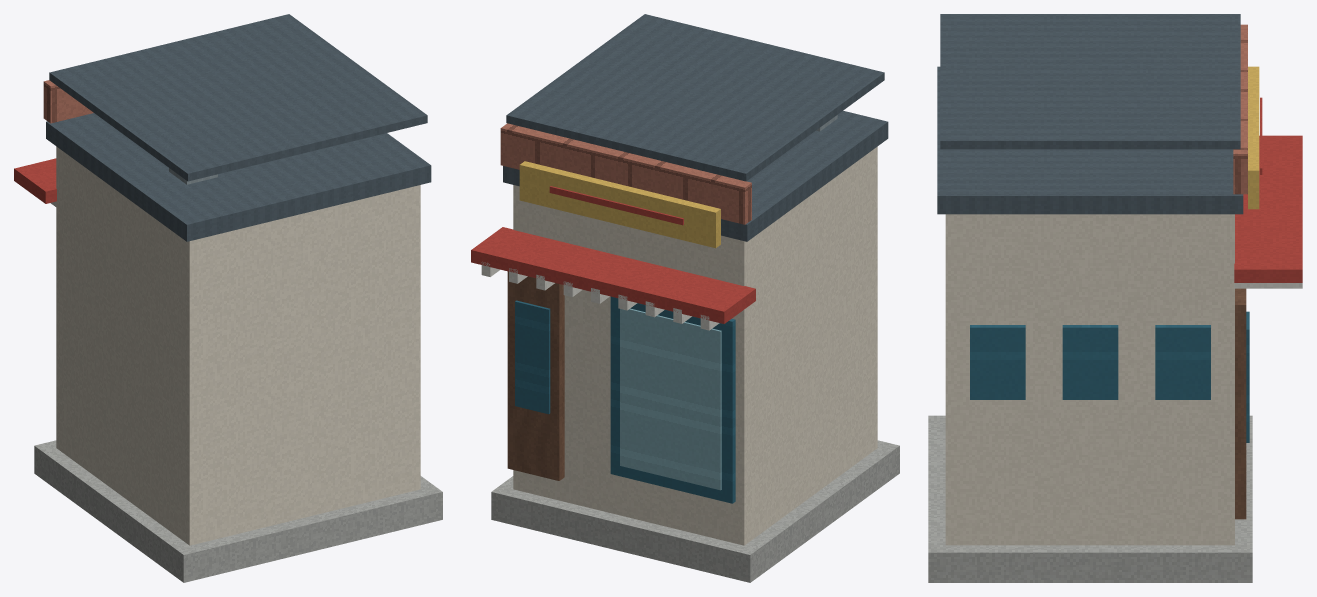
The model's file is neighborhood_shop.gltf.
The picture shows the model from 3 angles, left to right: view 1: azimuth 30°, elevation 25°; view 2: azimuth 150°, elevation 25°; view 3: azimuth 270°, elevation 25°; orthographic projection. The views are drawn at different scales.
Parts seen in each view (by area): view 1: shop_root; view 2: shop_root; view 3: shop_root.
Part boxes in pixels (x1,y1,x2,y2): shop_root: (14,14,442,582); shop_root: (471,14,899,582); shop_root: (928,14,1302,582).
Size of the model in its own units: 3.5 by 5.2 by 4.04.
11 materials, 11 textured.
